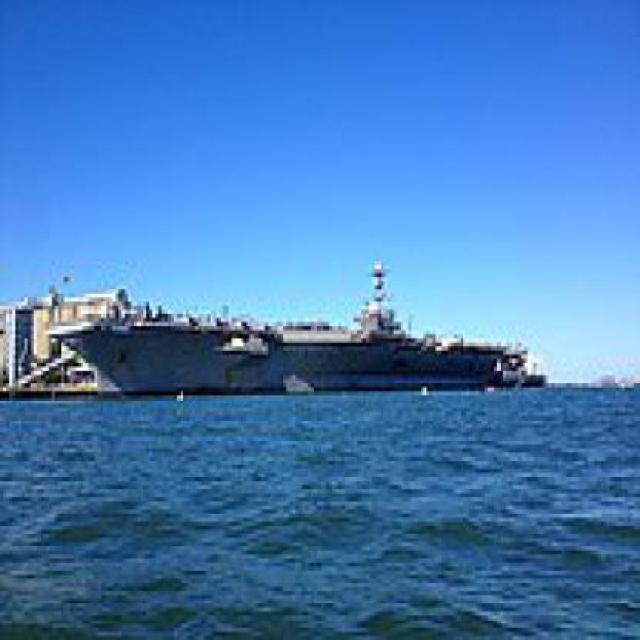warship2: (59, 253, 568, 401)
